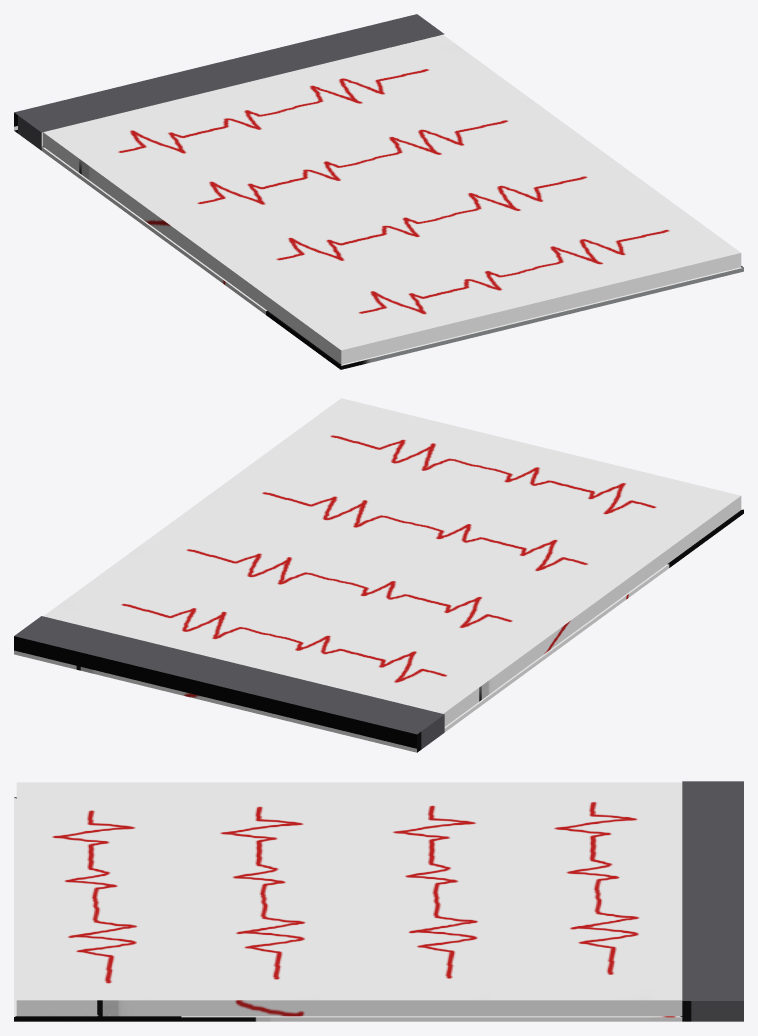
Rendered from notebook.fbx.
The picture shows the model from 3 angles, top to bottom: view 1: azimuth 30°, elevation 25°; view 2: azimuth 150°, elevation 25°; view 3: azimuth 270°, elevation 25°; orthographic projection. The views are drawn at different scales.
Parts seen in each view (by area): view 1: Legal Pad; view 2: Legal Pad; view 3: Legal Pad.
Part boxes in pixels (x1,y1,x2,y2): Legal Pad: (14, 14, 743, 369); Legal Pad: (14, 398, 743, 752); Legal Pad: (14, 781, 743, 1021).
Size of the model in its own units: 200 by 8.68 by 281.
Materials: 1 (1 with a texture image).
